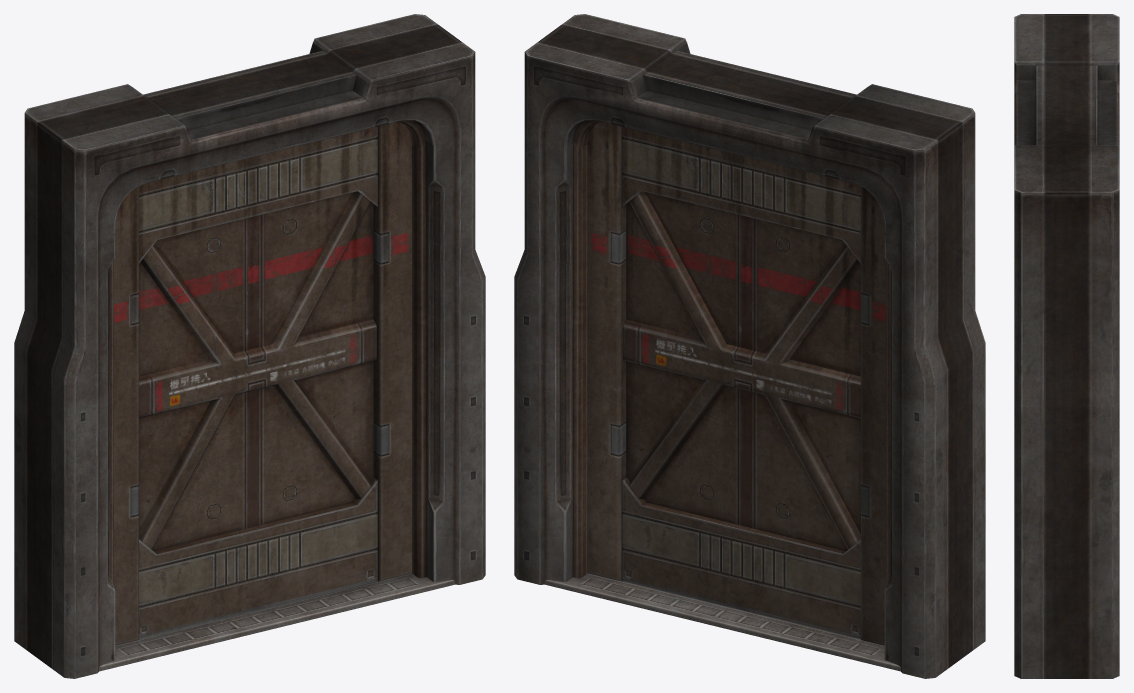
Rendered from slidedoor_medium_vertical.dae.
3 views of the same model, side by side, from view 1: azimuth 30°, elevation 25°; view 2: azimuth 150°, elevation 25°; view 3: azimuth 270°, elevation 25° (orthographic). The views are drawn at different scales.
Parts seen in each view (by area): view 1: door__3_, frame__2_; view 2: door__3_, frame__2_; view 3: frame__2_.
Boxes of the visible parts, box(x1,y1,x2,y2) form: door__3_: box(114, 122, 412, 645); frame__2_: box(14, 14, 485, 678); door__3_: box(587, 122, 885, 645); frame__2_: box(514, 14, 985, 678); frame__2_: box(1014, 14, 1119, 678).
Size of the model in its own units: 2.63 by 3.14 by 0.6204.
